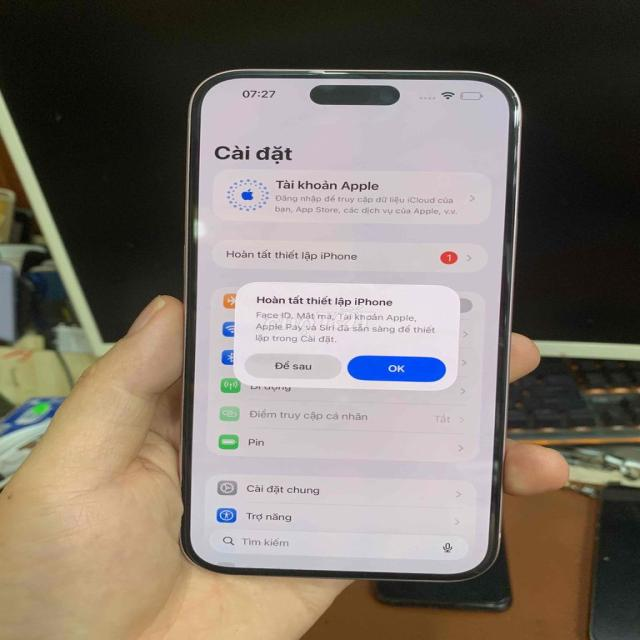gen_15: (138, 48, 519, 592)
